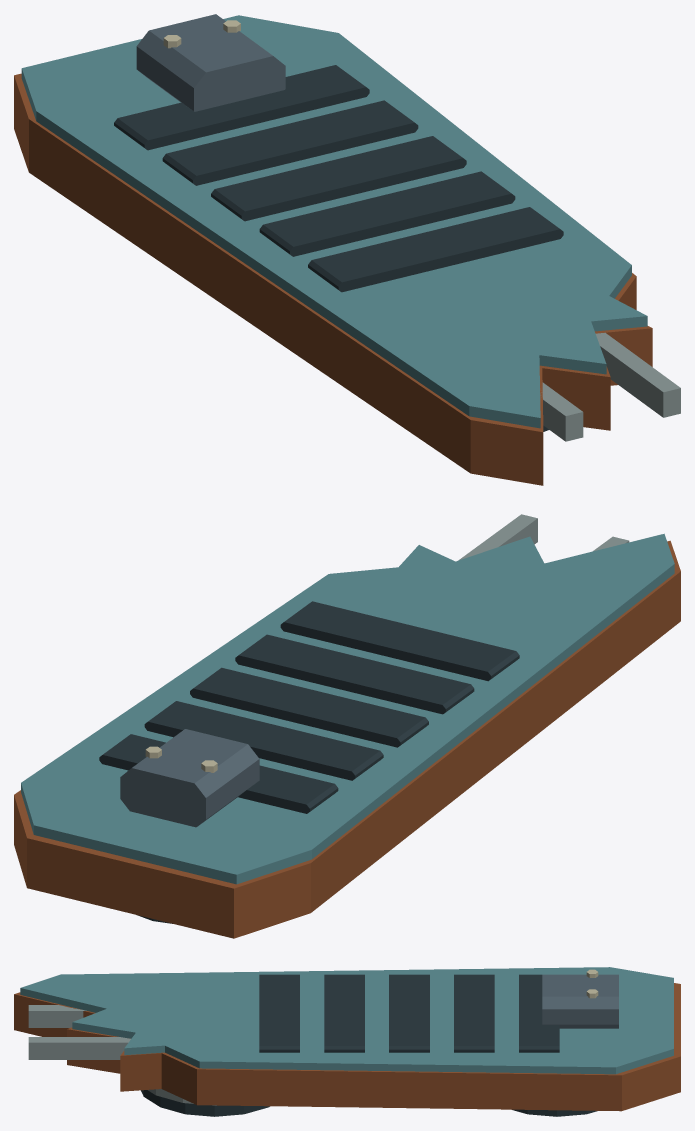
File: MR-03_chipped_magboard.glb
The picture shows the model from 3 angles, top to bottom: view 1: azimuth 30°, elevation 25°; view 2: azimuth 150°, elevation 25°; view 3: azimuth 270°, elevation 25°; orthographic projection. The views are drawn at different scales.
Parts seen in each view (by area): view 1: MR-03_chipped_magboard; view 2: MR-03_chipped_magboard; view 3: MR-03_chipped_magboard.
Boxes of the visible parts, bbox=[...] form: MR-03_chipped_magboard: bbox=[14, 14, 680, 485]; MR-03_chipped_magboard: bbox=[14, 514, 680, 938]; MR-03_chipped_magboard: bbox=[14, 967, 680, 1116].
Size of the model in its own units: 0.41 by 0.192 by 1.13.
